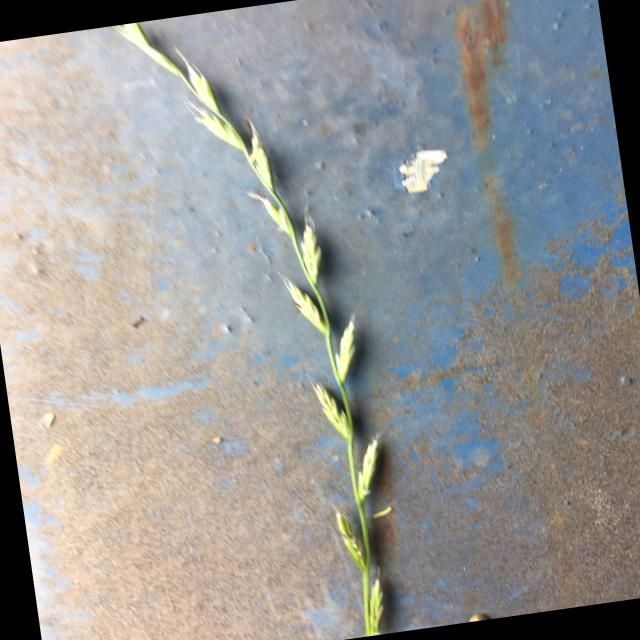Lolium: (110, 0, 414, 640)
